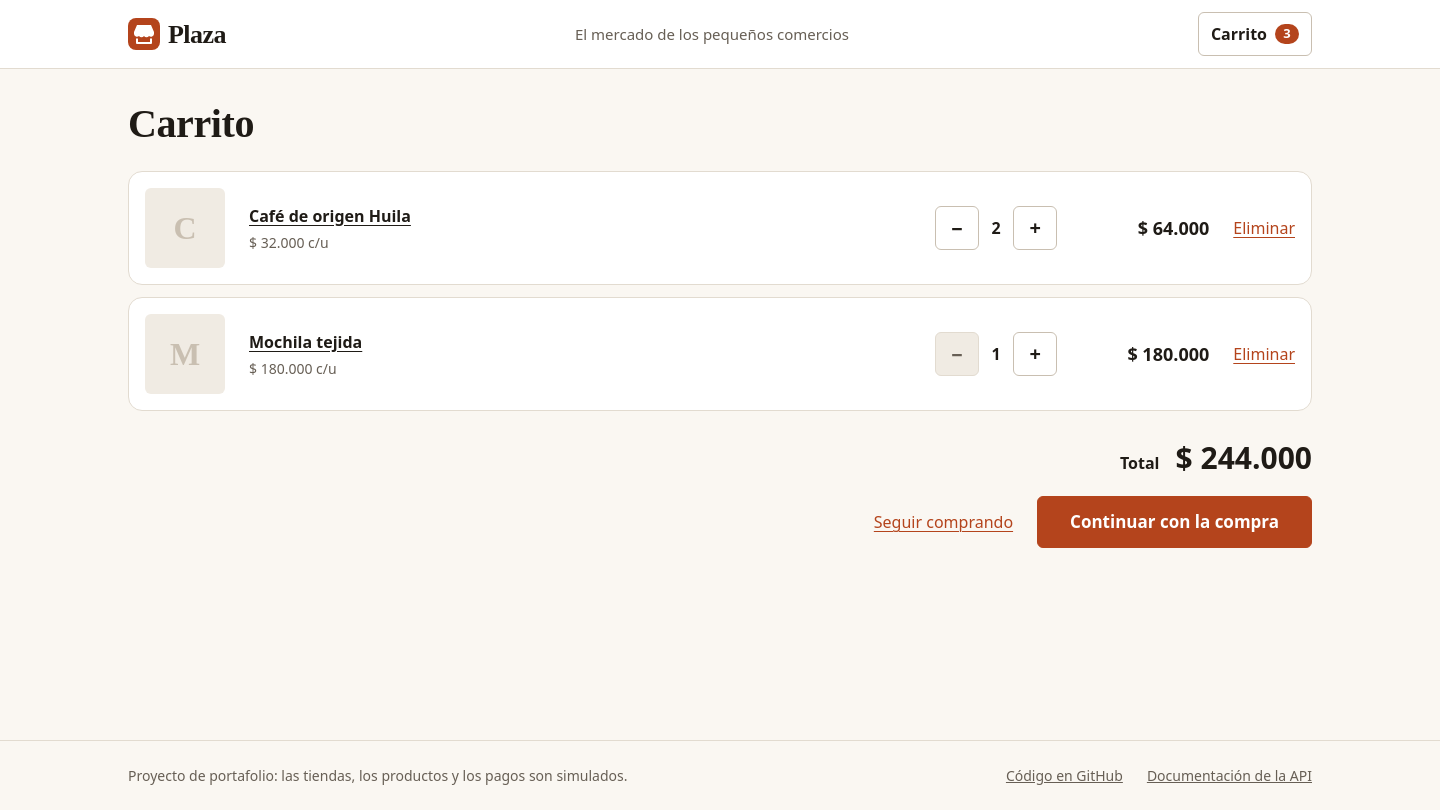
Test case: CartPage › removes a line with a DELETE
Click the button with aria-label "Eliminar Mochila tejida del carrito".
click(1264, 354)  # box top-left (1233, 332), bottom-right (1295, 376)
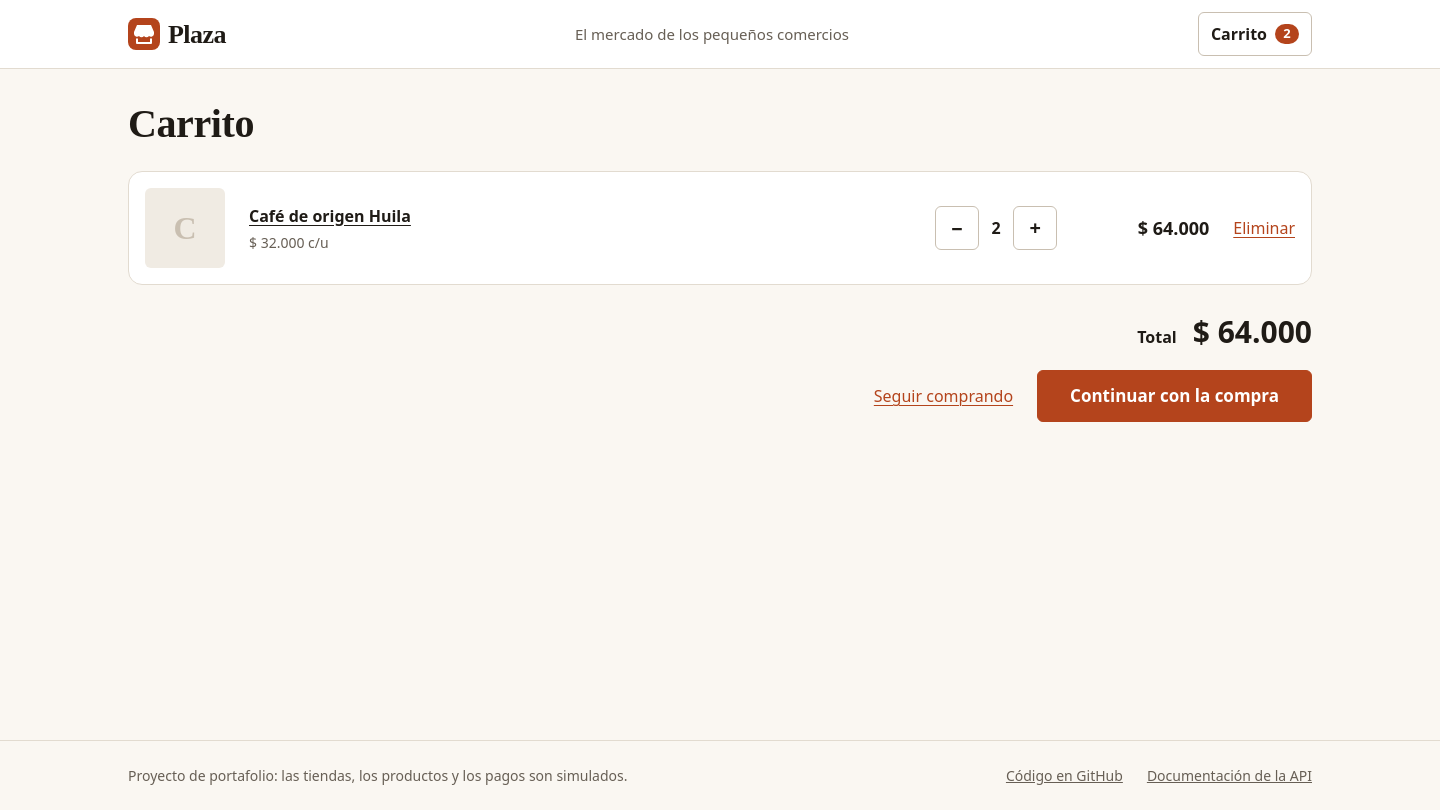
Check: the link "Café de origen Huila" is shown, box top-left (249, 204), bottom-right (411, 226)
Check: the link "Mochila tejida" is gone
